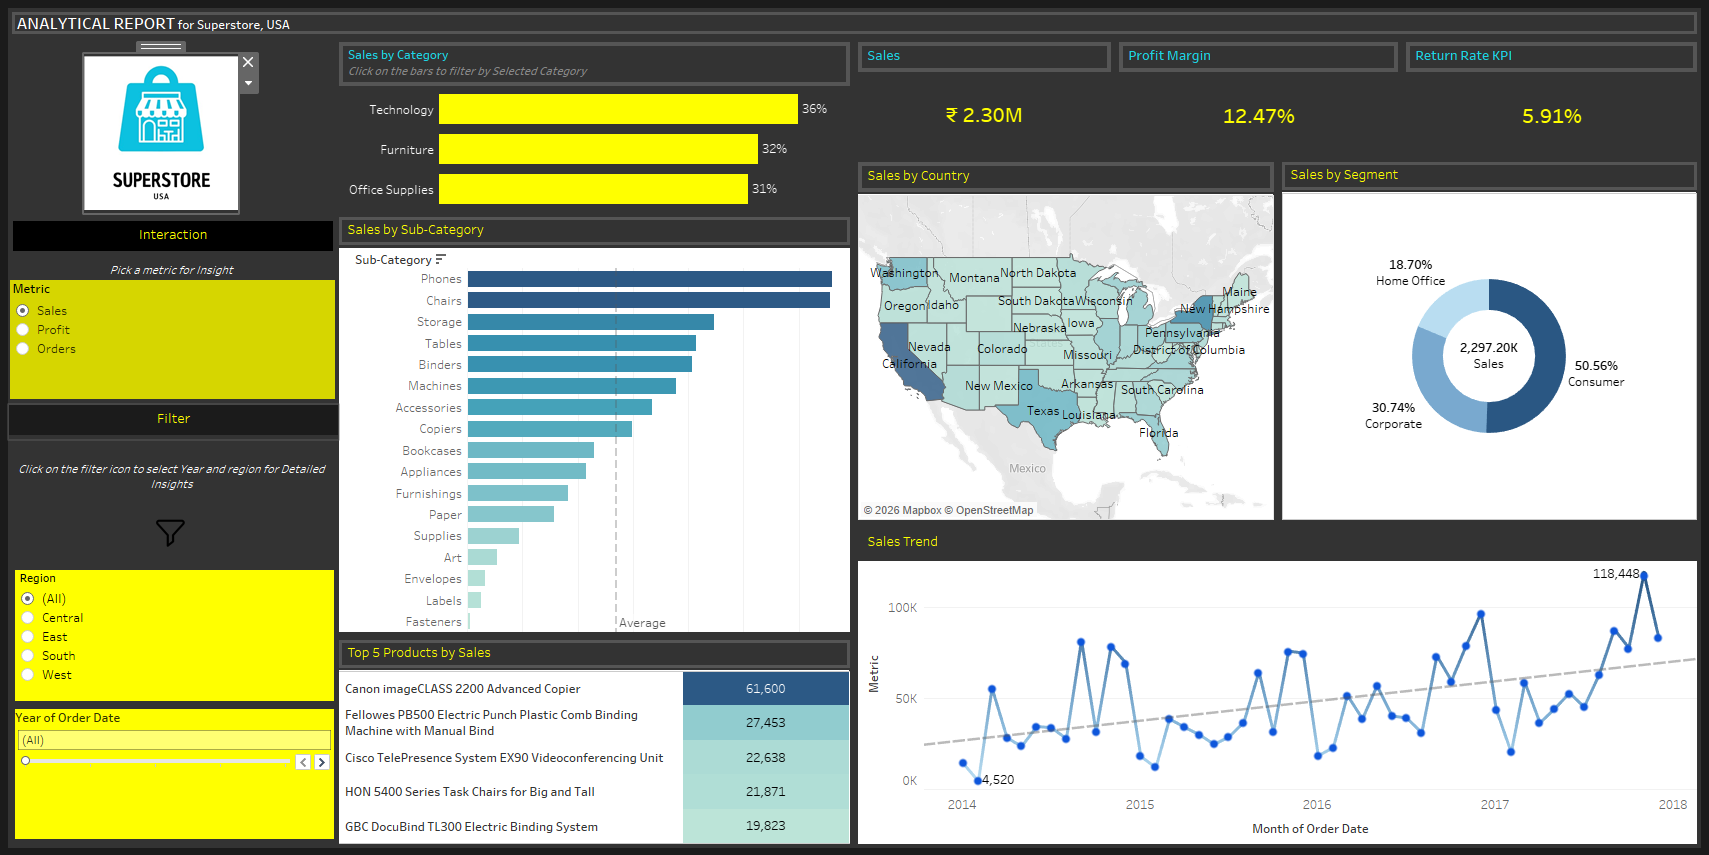

The dashboard page shown, as its layout file describes it:
{"tool":"tableau","page":{"name":"Dashboard 1","canvas":[1000,1000],"units":"permille","ordinal":0},"visuals":[{"type":"text","box":[4.2,9.9,991.5,111]},{"type":"image","param":"Image/Picture1.jpg","box":[4.2,120.8,162.5,238]},{"type":"worksheet","title":"Sales by Category","mark":"Automatic","rows":["Category"],"cols":["Calculation_573646036152852480"],"box":[166.8,120.8,253.7,238]},{"type":"worksheet","title":"Sales","mark":"Automatic","box":[420.5,120.8,191.8,238]},{"type":"worksheet","title":"Profit M","mark":"Automatic","box":[612.2,120.8,191.8,238]},{"type":"worksheet","title":"RR","mark":"Automatic","box":[804,120.8,191.8,238]},{"type":"text","box":[4.2,358.8,162.5,37]},{"type":"worksheet","title":"Sales By Sub-Category","mark":"Automatic","rows":["Sub-Category"],"cols":["Calculation_573646036152852480"],"box":[166.8,358.8,289.4,390.9]},{"type":"worksheet","title":"Statewise","mark":"Automatic","box":[456.2,358.8,247.3,332.9]},{"type":"worksheet","title":"Donut","mark":"Pie","rows":["Calculation_573646036168179716","Calculation_573646036168179716"],"box":[703.5,358.8,292.2,332.9]},{"type":"text","box":[4.2,395.8,162.5,35.8]},{"type":"parameter","param":"[Parameters].[Parameter 1]","box":[4.2,431.6,162.5,149.2]},{"type":"text","box":[4.2,580.8,162.5,37]},{"type":"text","box":[4.2,617.8,162.5,77.7]},{"type":"dashboard-object","box":[74.2,688,27.2,53]},{"type":"worksheet","title":"Trend","mark":"Automatic","rows":["Calculation_573646036152852480","Calculation_573646036152852480"],"cols":["Order Date"],"box":[456.2,691.7,539.6,298.4]},{"type":"filter","title":"Donut","param":"[federated.0zk910c0gmijhe1d3jlk00rqjnvz].[none:Region:nk]","box":[4.2,749.7,162.5,120.2]},{"type":"worksheet","title":"Top 5","mark":"Square","rows":["Product Name"],"box":[166.8,749.7,289.4,240.5]},{"type":"filter","title":"Donut","param":"[federated.0zk910c0gmijhe1d3jlk00rqjnvz].[yr:Order Date:ok]","box":[4.2,869.9,162.5,120.2]}]}

Visuals, with their boxes on the dashboard's canvas, which has no fixed pixel size, in thousandths of its width and height (x1, y1, x2, y2). These are canvas units, not pixel positions in the 1709x855 screenshot, which may show the page scaled, cropped or inside an application window:
text: [4,10,996,121]
image: [4,121,167,359]
"Sales by Category" worksheet: [167,121,420,359]
"Sales" worksheet: [420,121,612,359]
"Profit M" worksheet: [612,121,804,359]
"RR" worksheet: [804,121,996,359]
text: [4,359,167,396]
"Sales By Sub-Category" worksheet: [167,359,456,750]
"Statewise" worksheet: [456,359,704,692]
"Donut" worksheet (Pie marks): [704,359,996,692]
text: [4,396,167,432]
parameter: [4,432,167,581]
text: [4,581,167,618]
text: [4,618,167,696]
dashboard-object: [74,688,101,741]
"Trend" worksheet: [456,692,996,990]
"Donut" filter: [4,750,167,870]
"Top 5" worksheet (Square marks): [167,750,456,990]
"Donut" filter: [4,870,167,990]
